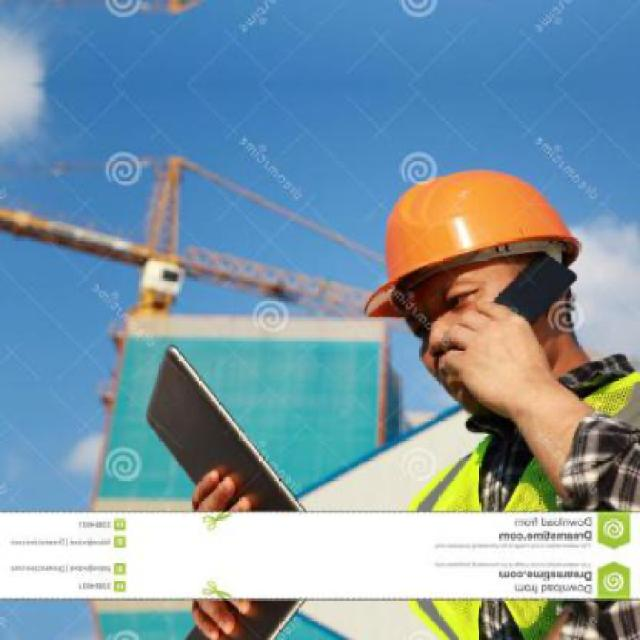con casco: (348, 189, 610, 395)
